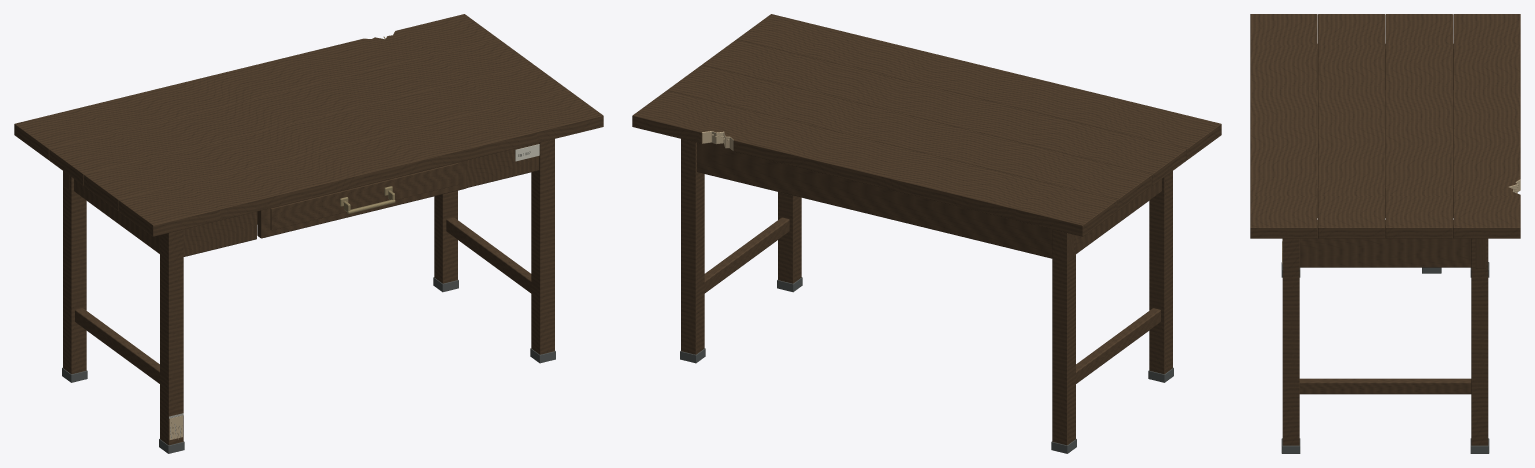
File: desk.glb
3 views of the same model, side by side, from view 1: azimuth 30°, elevation 25°; view 2: azimuth 150°, elevation 25°; view 3: azimuth 270°, elevation 25° (orthographic). The views are drawn at different scales.
Parts seen in each view (by area): view 1: Tabletop plank 4, Tabletop plank 2, Tabletop plank 3, Tabletop plank 1, Square walnut leg.003, Square walnut leg.001, Square walnut leg, Drawer inset field, Front rail left, Square walnut leg.002, Inset drawer front, Front rail right (+3 smaller); view 2: Tabletop plank 1, Tabletop plank 4, Tabletop plank 2, Tabletop plank 3, Rear apron, Square walnut leg, Square walnut leg.002, Square walnut leg.001, Square walnut leg.003, Lower side stretcher.001, Lower side stretcher, Side apron; view 3: Tabletop plank 2, Tabletop plank 3, Tabletop plank 4, Tabletop plank 1, Side apron.001, Square walnut leg.003, Square walnut leg.002, Lower side stretcher.001, Drawer body, Rear apron.
Part boxes in pixels (bbox=[...]): Tabletop plank 4: bbox=[118, 90, 603, 236]; Tabletop plank 2: bbox=[49, 39, 533, 185]; Tabletop plank 3: bbox=[84, 65, 568, 210]; Tabletop plank 1: bbox=[14, 14, 498, 159]; Square walnut leg.003: bbox=[531, 139, 554, 354]; Square walnut leg.001: bbox=[160, 229, 183, 445]; Square walnut leg: bbox=[63, 171, 86, 374]; Drawer inset field: bbox=[270, 163, 458, 230]; Front rail left: bbox=[183, 211, 256, 256]; Square walnut leg.002: bbox=[434, 190, 457, 283]; Inset drawer front: bbox=[257, 160, 466, 238]; Front rail right: bbox=[467, 143, 539, 187]; Tabletop plank 1: bbox=[632, 90, 1117, 236]; Tabletop plank 4: bbox=[737, 14, 1221, 159]; Tabletop plank 2: bbox=[667, 65, 1151, 210]; Tabletop plank 3: bbox=[702, 39, 1186, 185]; Rear apron: bbox=[697, 142, 1073, 262]; Square walnut leg: bbox=[1052, 229, 1075, 445]; Square walnut leg.002: bbox=[681, 139, 704, 354]; Square walnut leg.001: bbox=[1149, 171, 1172, 374]; Square walnut leg.003: bbox=[778, 192, 801, 283]; Lower side stretcher.001: bbox=[704, 217, 789, 293]; Lower side stretcher: bbox=[1076, 308, 1160, 383]; Side apron: bbox=[1076, 179, 1161, 253]; Tabletop plank 2: bbox=[1385, 14, 1452, 238]; Tabletop plank 3: bbox=[1318, 14, 1385, 238]; Tabletop plank 4: bbox=[1250, 14, 1317, 238]; Tabletop plank 1: bbox=[1453, 14, 1520, 238]; Side apron.001: bbox=[1299, 220, 1471, 267]; Square walnut leg.003: bbox=[1282, 238, 1299, 445]; Square walnut leg.002: bbox=[1471, 238, 1488, 445]; Lower side stretcher.001: bbox=[1299, 378, 1471, 394]; Drawer body: bbox=[1317, 90, 1453, 215]; Rear apron: bbox=[1475, 238, 1486, 268].
Size of the model in its own units: 1.42 by 0.748 by 0.7588.
Materials: 7 (1 with a texture image).
